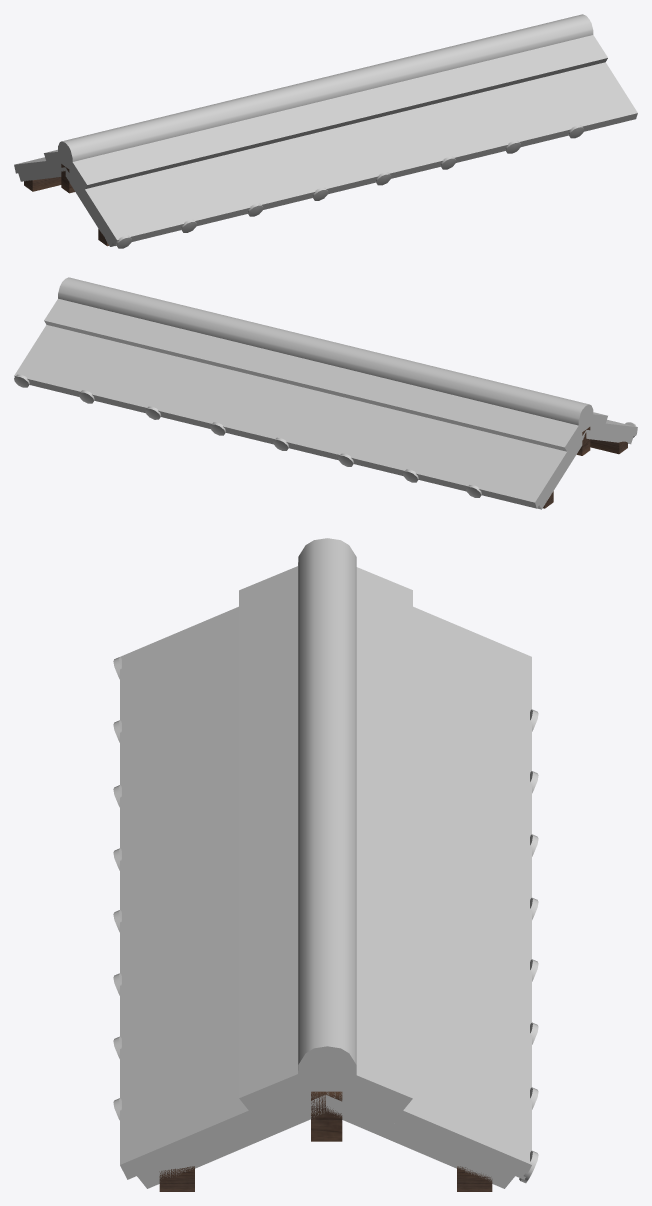
Rendered from fence_top1a_2t.fbx.
The picture shows the model from 3 angles, top to bottom: view 1: azimuth 30°, elevation 25°; view 2: azimuth 150°, elevation 25°; view 3: azimuth 270°, elevation 25°; orthographic projection. The views are drawn at different scales.
Visible parts, largest first — view 1: fence_top1a_2t; view 2: fence_top1a_2t; view 3: fence_top1a_2t.
Part boxes in pixels (bbox=[...]): fence_top1a_2t: bbox=[14, 14, 637, 248]; fence_top1a_2t: bbox=[14, 277, 637, 509]; fence_top1a_2t: bbox=[113, 538, 538, 1191].
Size of the model in its own units: 440 by 58.76 by 156.
